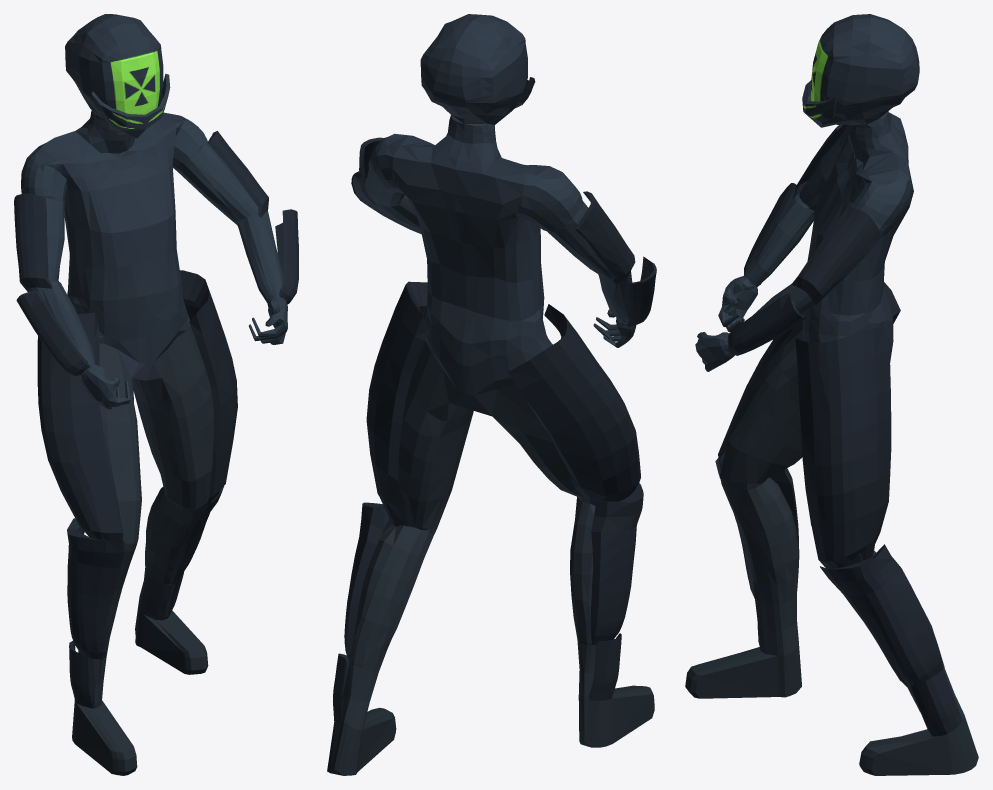
Rendered from Bastion_Stun_000010.obj.
3 renders of one model, left to right at view 1: azimuth 30°, elevation 25°; view 2: azimuth 150°, elevation 25°; view 3: azimuth 270°, elevation 25°, orthographic. The views are drawn at different scales.
Visible parts, largest first — view 1: Cube.002; view 2: Cube.002; view 3: Cube.002.
Boxes of the visible parts, x1,y1,x2,y2 form: Cube.002: (14,14,298,775); Cube.002: (327,14,656,775); Cube.002: (685,14,978,775).
Bounding box in the file's own units: 1.61 × 3.73 × 1.39.
